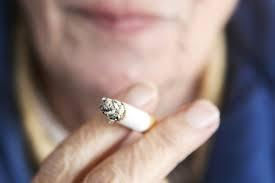smoke: (99, 96, 166, 139)
